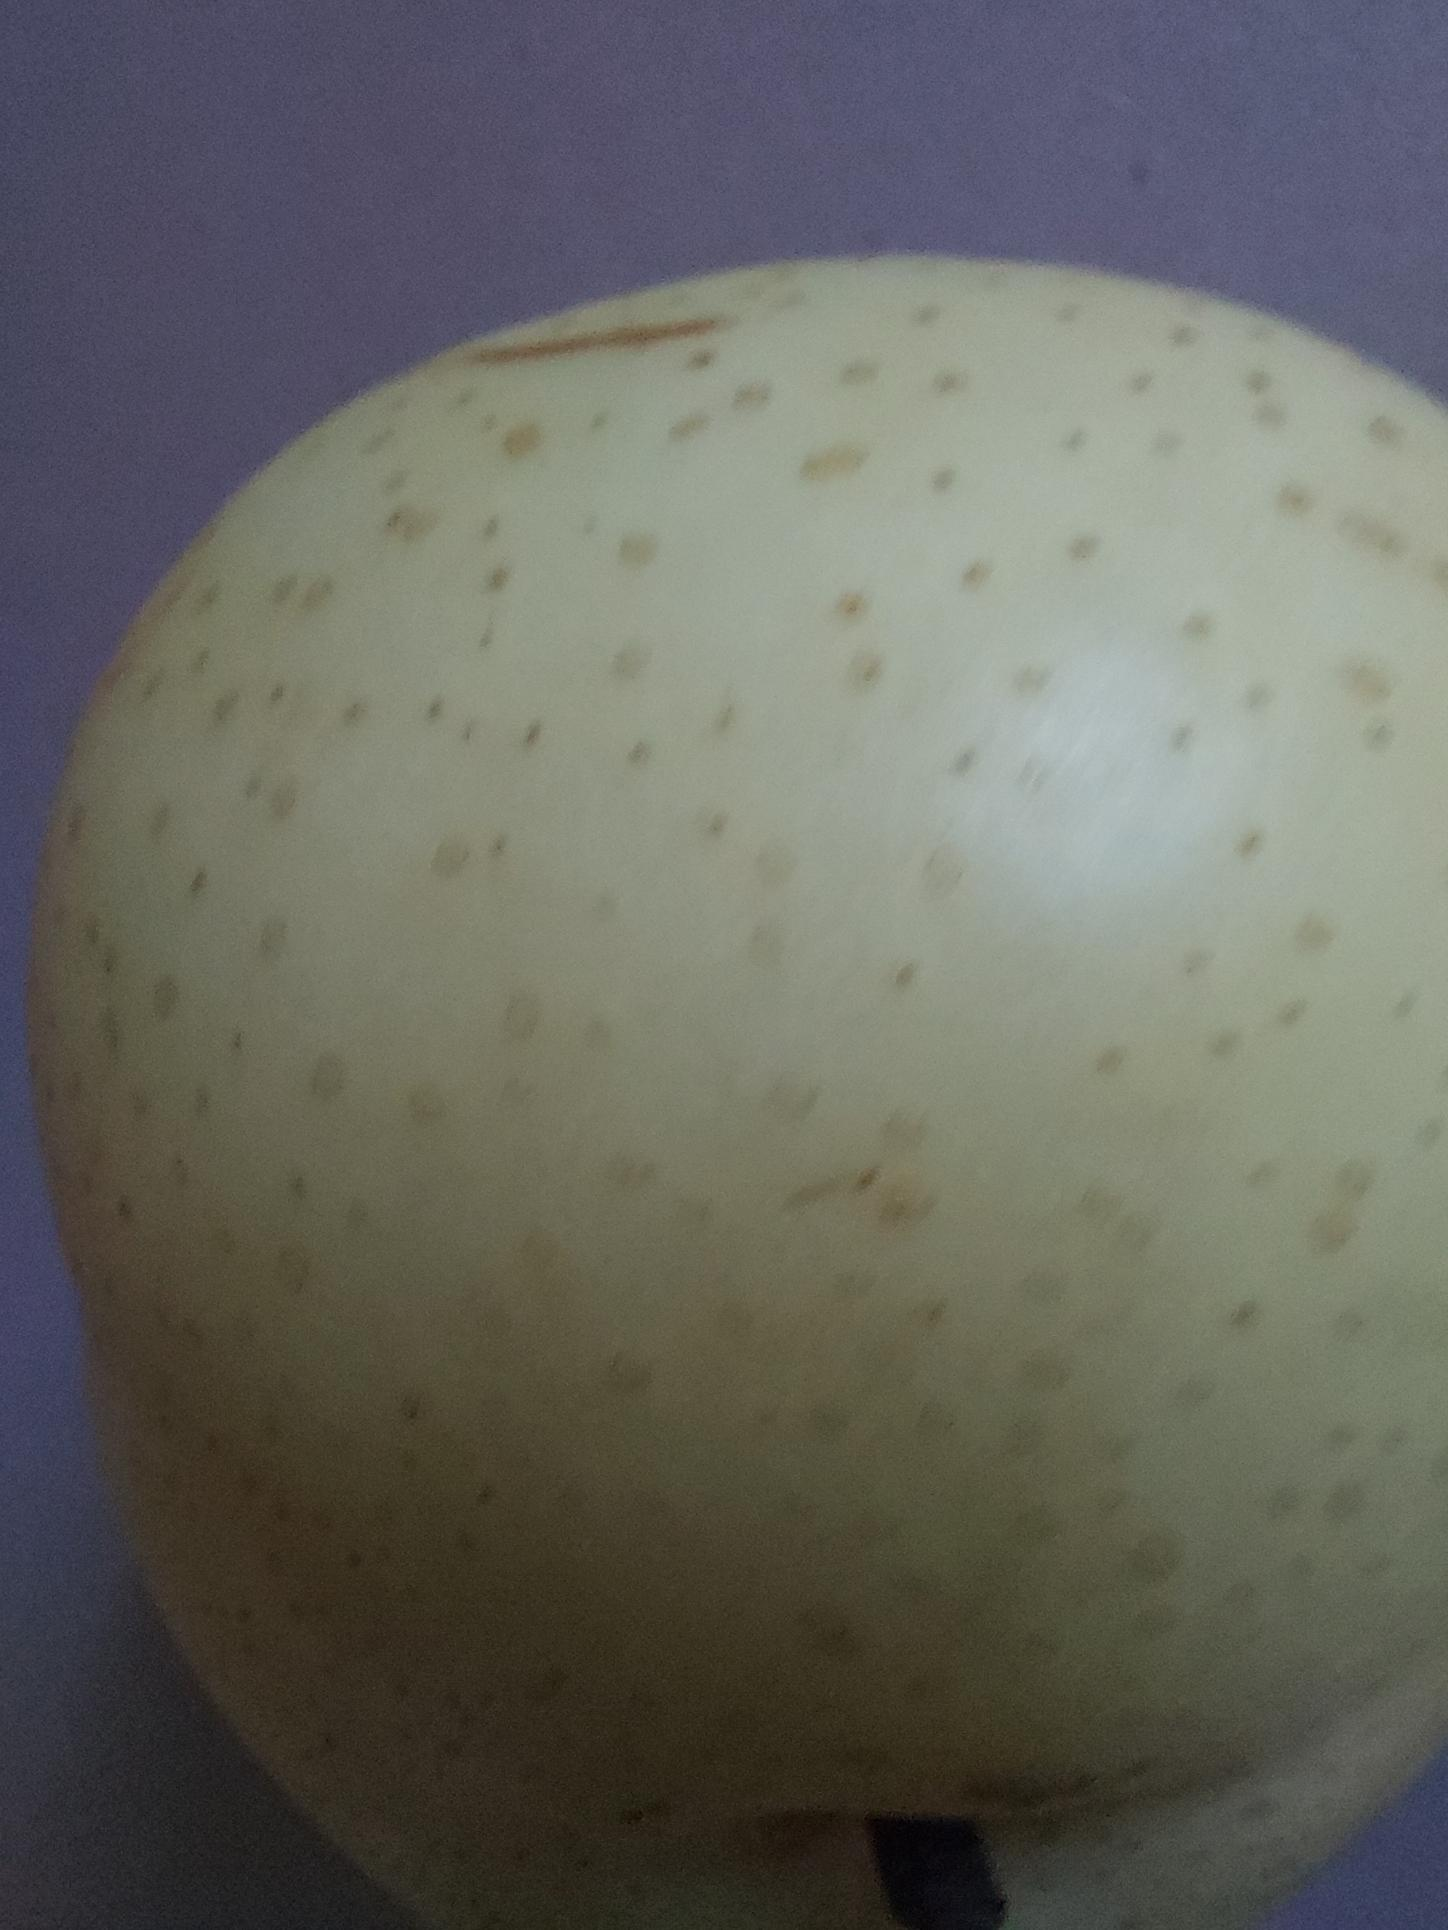Good Pear: (2, 157, 1448, 1930)
